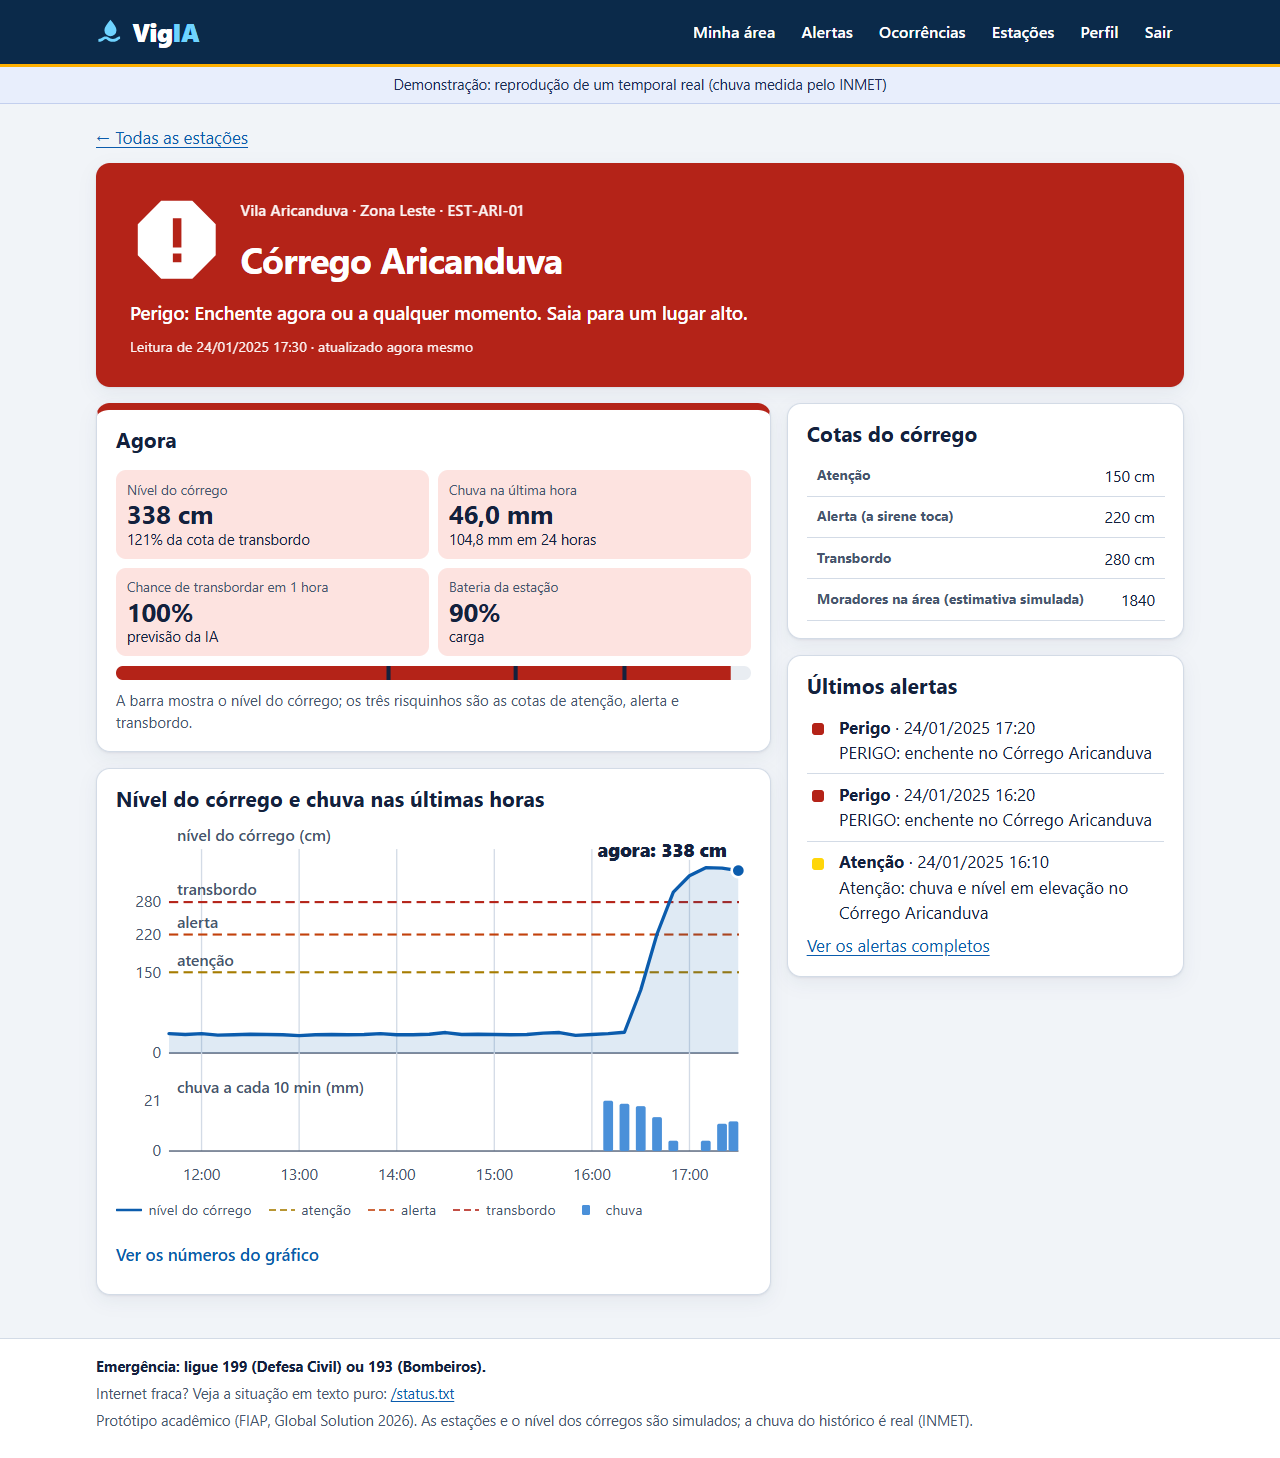

The page's visual inventory and layout, read from the dashboard file:
{"tool":"powerbi","page":{"name":"Página 1","canvas":[1920,1080],"ordinal":0},"visuals":[{"type":"htmlContent443BE3AD55E043BF878BED274D3A6855","fields":{"content":["Medidas.VigIA Painel HTML"]},"box":[0,0,1920,1079.6],"z":0},{"type":"slicer","fields":{"Values":["dim_data.data"]},"box":[42.3,134.2,300.5,52.5],"z":1},{"type":"slicer","fields":{"Values":["dim_estacao.nome"]},"box":[367.7,137.1,356,52.5],"z":2}]}

Visuals, with their boxes on the page's 1920x1080 design canvas (x1, y1, x2, y2). These are canvas units, not pixel positions in the 1280x1458 screenshot, which may show the page scaled, cropped or inside an application window:
htmlContent443BE3AD55E043BF878BED274D3A6855 - Medidas.VigIA Painel HTML: (0,0,1920,1080)
slicer - dim_data.data: (42,134,343,187)
slicer - dim_estacao.nome: (368,137,724,190)
